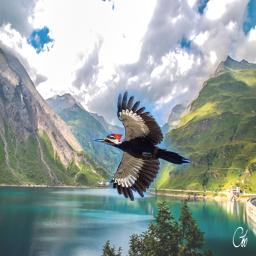Woodpecker: (94, 89, 190, 201)
